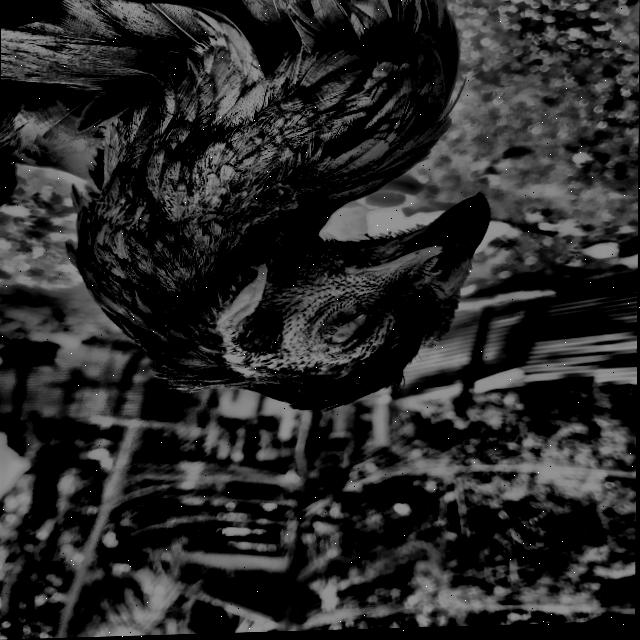Coryza: (0, 0, 513, 428)
